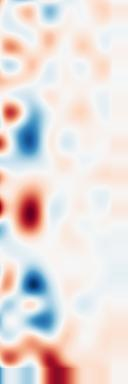filament: (23, 332, 75, 383), (12, 178, 54, 240)
